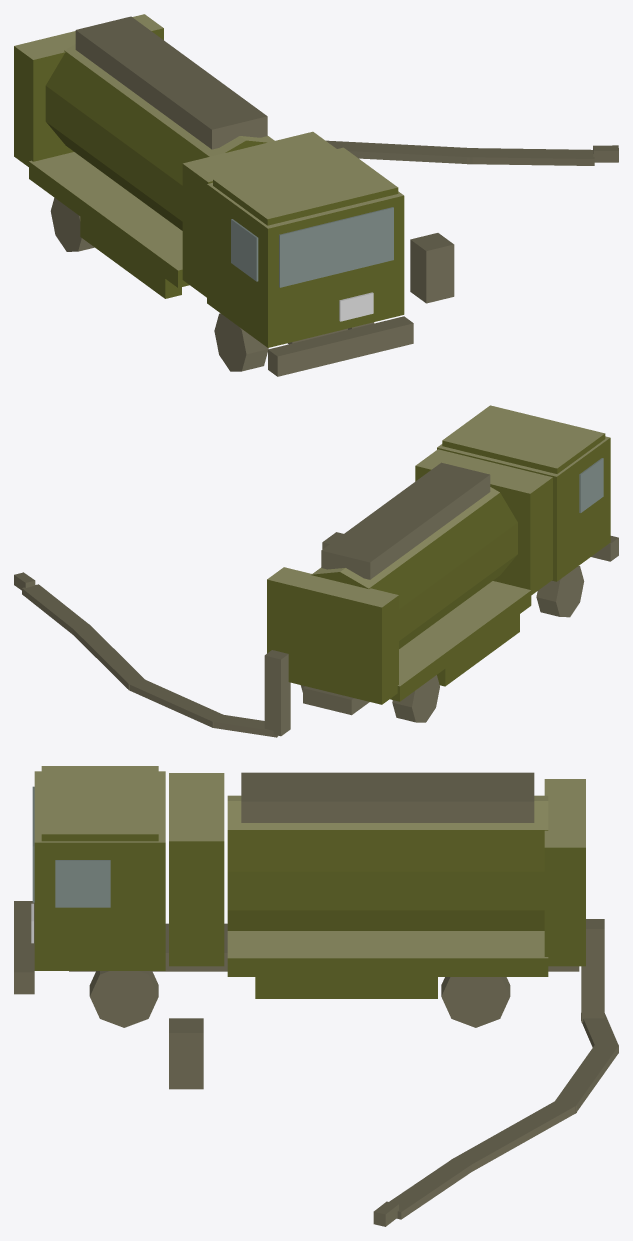
The model's file is SM_CamionCisterna_v1_Repostando_LOD1.fbx.
3 renders of one model, top to bottom at view 1: azimuth 30°, elevation 25°; view 2: azimuth 150°, elevation 25°; view 3: azimuth 270°, elevation 25°, orthographic. The views are drawn at different scales.
Parts seen in each view (by area): view 1: SM_camion_cisterna_v1_LOD1; view 2: SM_camion_cisterna_v1_LOD1; view 3: SM_camion_cisterna_v1_LOD1.
Part boxes in pixels (left/top/right/bottom): SM_camion_cisterna_v1_LOD1: left=14, top=14, right=618, bottom=376; SM_camion_cisterna_v1_LOD1: left=14, top=405, right=618, bottom=737; SM_camion_cisterna_v1_LOD1: left=14, top=766, right=618, bottom=1226.
Size of the model in its own units: 9.28 by 3.32 by 8.78.
